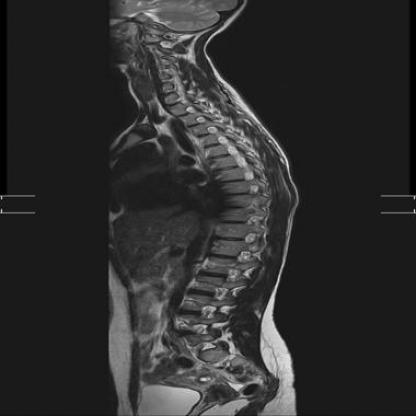Disc Bulgerotation: (217, 177, 244, 187), (223, 190, 250, 200), (213, 163, 240, 173), (159, 76, 176, 84)
